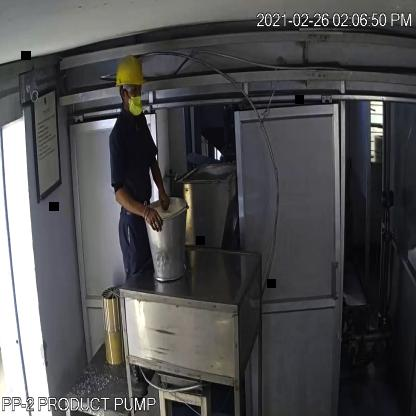helmet: (113, 52, 151, 93)
